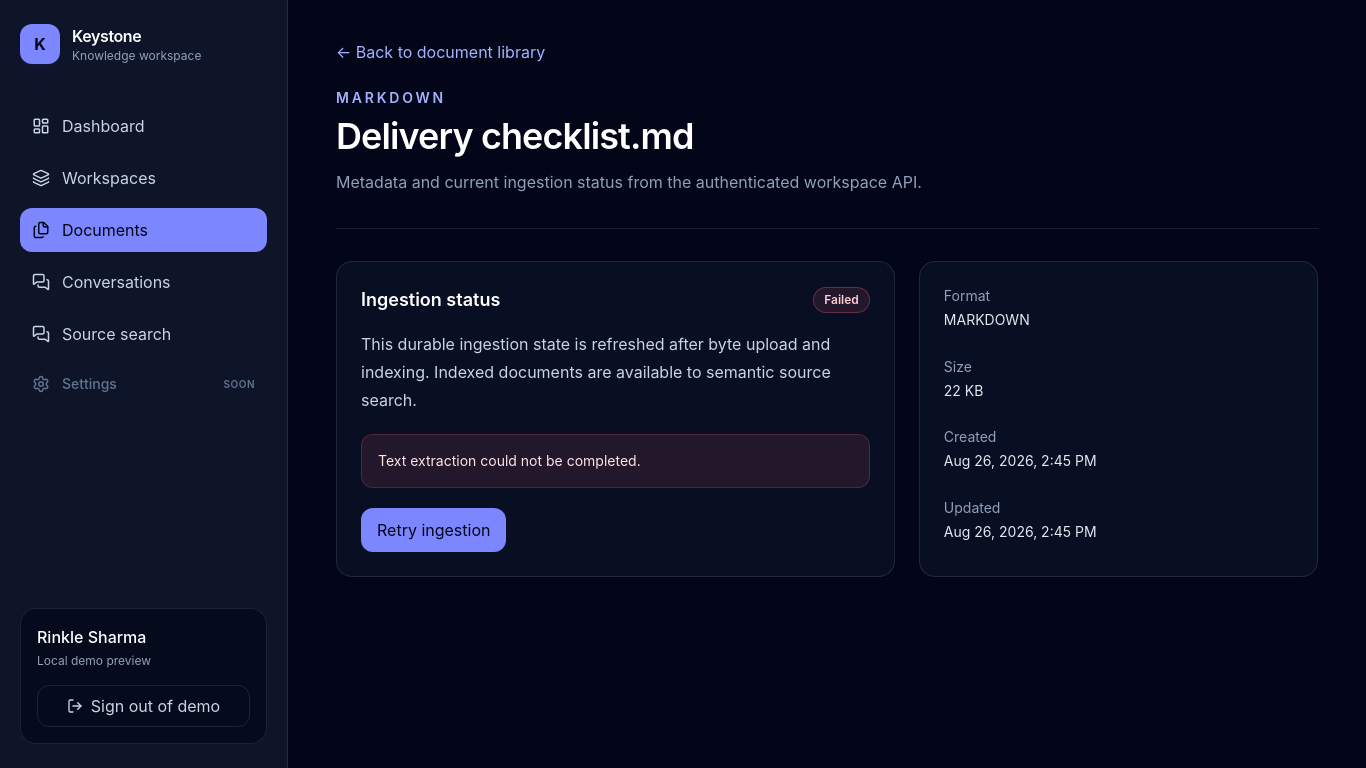
Test: document library and detail routes › uses real indexing for API-mode retry and refreshes the durable result
expect the text "Failed" is shown: met, box x1=813 y1=287 x2=870 y2=313
expect the text "durable ingestion state" is shown: met, box x1=361 y1=334 x2=831 y2=410
Click the button "Retry ingestion" at (434, 530), box x1=361 y1=508 x2=506 y2=552
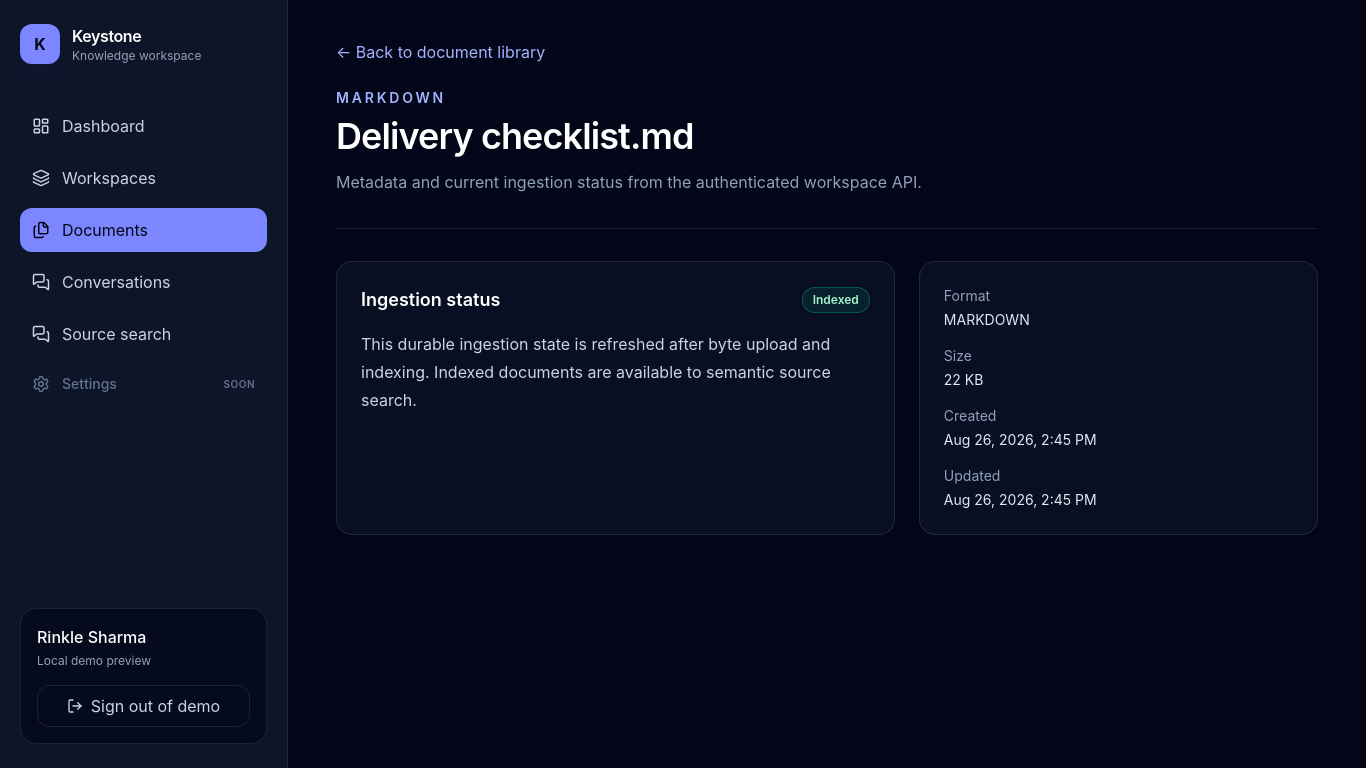
expect the text "Indexed" is shown: met, box x1=802 y1=287 x2=870 y2=313
